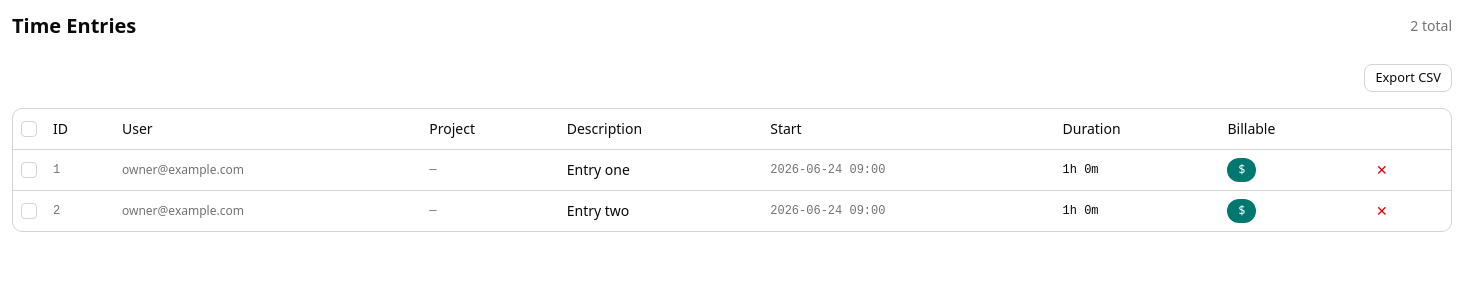
Test case: AdminTimeEntriesTable › selects and deselects all rows via the header checkbox
Expected: the text "Entry one" is shown, [559,149,762,190]
Click the checkbox next to "ID". click: coordinates (29, 129)
box: [21,121,37,137]
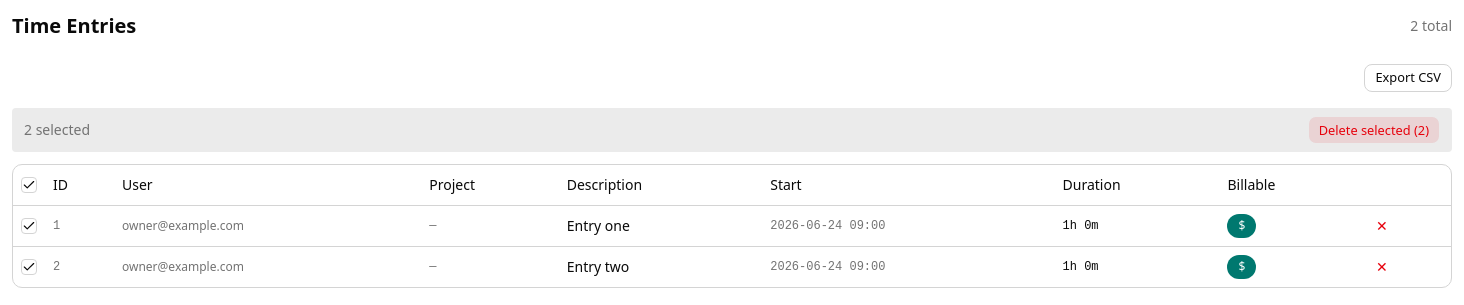
Now the text "2 selected" is shown, box [24,120,90,140]
Click the checkbox next to "ID". click: coordinates (29, 185)
box: [21,177,37,193]
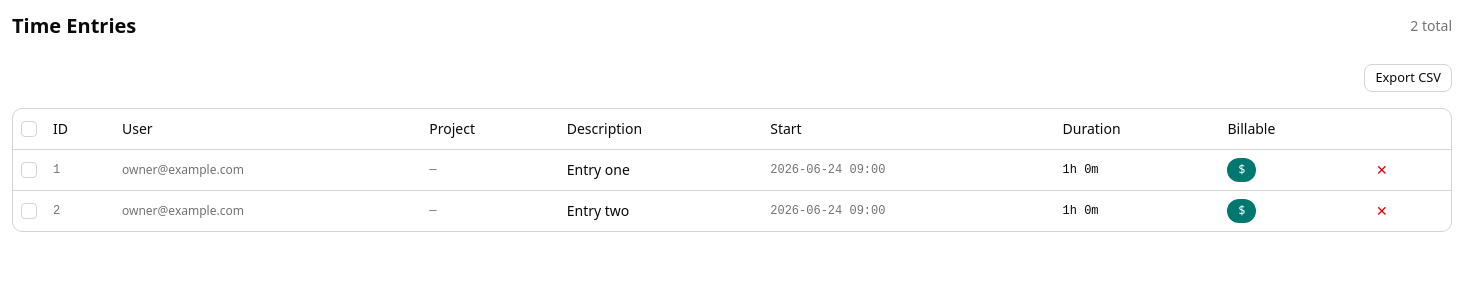
Now the text "selected" is gone
